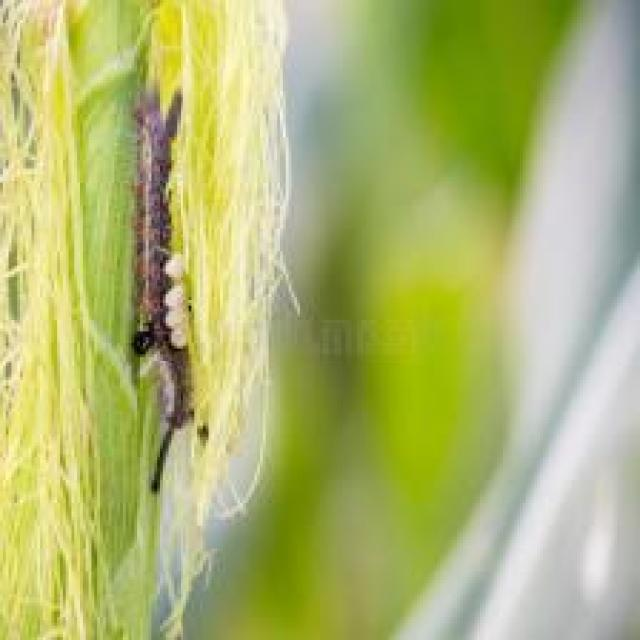pest: (137, 119, 220, 429)
